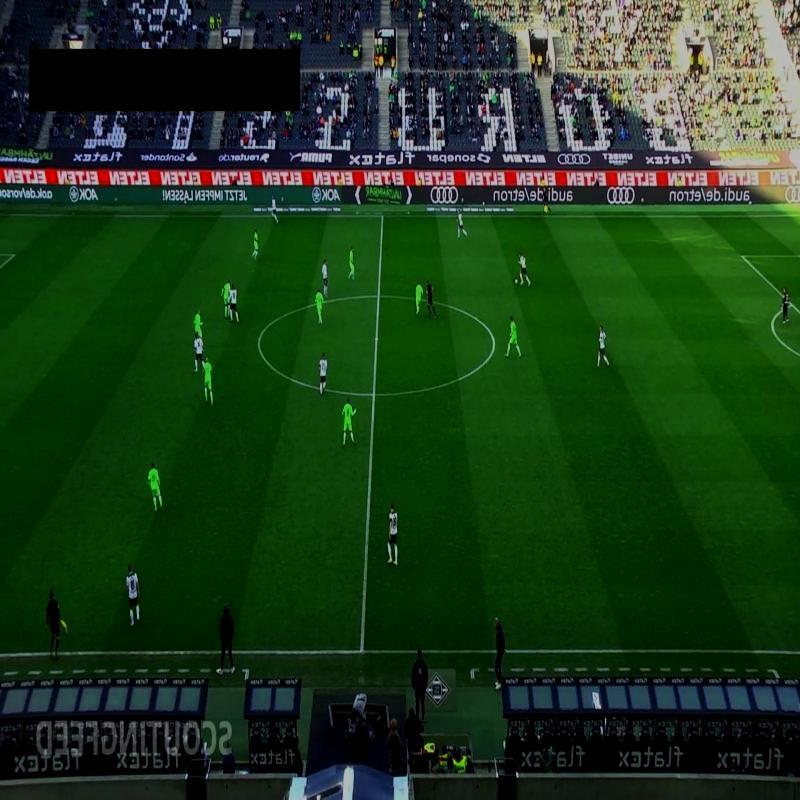10: (784, 296, 798, 310)
13: (376, 208, 390, 222)
14: (372, 288, 386, 301)
15: (368, 386, 382, 400)
16: (354, 642, 370, 660)
9: (732, 247, 754, 266), (6, 249, 20, 262)
c: (485, 334, 504, 354), (250, 334, 267, 352)
